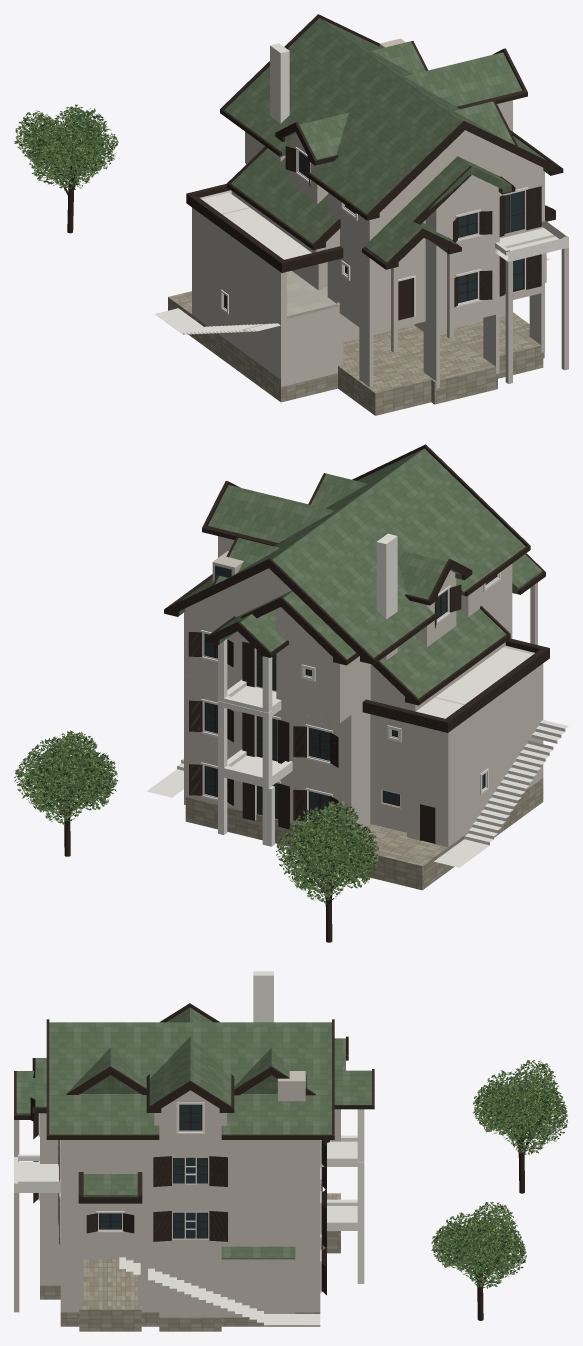
File: context-detail-b20.glb
3 renders of one model, top to bottom at view 1: azimuth 30°, elevation 25°; view 2: azimuth 150°, elevation 25°; view 3: azimuth 270°, elevation 25°, orthographic. The views are drawn at different scales.
Visible parts, largest first — view 1: B20 | ÇATII.003, B20 | KAT 1$DUVAR, B20 foundation below BK, B20 | KAT 0$DUVAR, B20 | KAT 2$DUVAR, B20 | ÇATII.002, Individual folded leaves.006, B20 | KAT 3$DUVAR, B20 | ÇATI ALIN.002, B20 | ÇATI ALIN.001, B20 | ÇATI ALIN, B20 | KAT 1$TAVAN (+11 smaller); view 2: B20 | ÇATII.003, B20 | KAT 1$DUVAR, B20 | KAT 2$DUVAR, B20 | KAT 0$DUVAR, B20 | ek dalgalar, Individual folded leaves.006, B20 | ÇATI ALIN.002, B20 foundation below BK, Individual folded leaves.005, B20 | ÇATII.002, B20 | KAT 3$DUVAR, B20 | ÇATI ALIN.001 (+14 smaller); view 3: B20 | ÇATII.003, B20 | KAT 1$DUVAR, B20 | KAT 0$DUVAR, B20 | KAT 2$DUVAR, B20 foundation below BK, Individual folded leaves.006, Individual folded leaves.005, B20 | ek dalgalar, B20 | ÇATI ALIN.002, B20 | ek dalgalar.001, B20 | ÇATI ALIN.001, B20 | PENCERE_KAPI$SHUTTER.001 (+13 smaller).
Boxes of the visible parts, x1,y1,x2,y2 form: B20 | ÇATII.003: [225, 18, 547, 220]; B20 | KAT 1$DUVAR: [192, 190, 546, 352]; B20 foundation below BK: [168, 291, 544, 415]; B20 | KAT 0$DUVAR: [192, 247, 568, 388]; B20 | KAT 2$DUVAR: [231, 128, 544, 271]; B20 | ÇATII.002: [231, 146, 549, 263]; Individual folded leaves.006: [14, 104, 118, 190]; B20 | KAT 3$DUVAR: [289, 100, 543, 209]; B20 | ÇATI ALIN.002: [220, 14, 562, 221]; B20 | ÇATI ALIN.001: [220, 109, 563, 269]; B20 | ÇATI ALIN: [186, 183, 555, 272]; B20 | KAT 1$TAVAN: [201, 192, 311, 259]; B20 | ÇATII.003: [181, 448, 525, 659]; B20 | KAT 1$DUVAR: [184, 582, 543, 791]; B20 | KAT 2$DUVAR: [184, 564, 512, 722]; B20 | KAT 0$DUVAR: [184, 725, 543, 847]; B20 | ek dalgalar: [146, 704, 568, 867]; Individual folded leaves.006: [276, 801, 379, 903]; B20 | ÇATI ALIN.002: [164, 444, 530, 664]; B20 foundation below BK: [185, 778, 543, 890]; Individual folded leaves.005: [14, 730, 118, 824]; B20 | ÇATII.002: [179, 554, 542, 698]; B20 | KAT 3$DUVAR: [185, 536, 456, 657]; B20 | ÇATI ALIN.001: [164, 545, 545, 705]; B20 | ÇATII.003: [35, 1007, 371, 1134]; B20 | KAT 1$DUVAR: [14, 1120, 320, 1259]; B20 | KAT 0$DUVAR: [14, 1193, 320, 1317]; B20 | KAT 2$DUVAR: [40, 1109, 340, 1201]; B20 foundation below BK: [40, 1193, 340, 1331]; Individual folded leaves.006: [472, 1060, 567, 1155]; Individual folded leaves.005: [431, 1202, 526, 1288]; B20 | ek dalgalar: [119, 1162, 364, 1325]; B20 | ÇATI ALIN.002: [32, 1003, 374, 1135]; B20 | ek dalgalar.001: [14, 1138, 364, 1281]; B20 | ÇATI ALIN.001: [14, 1051, 374, 1194]; B20 | PENCERE_KAPI$SHUTTER.001: [33, 1161, 326, 1244].
Bounding box in the file's own units: 18.95 × 14.71 × 26.72.
Materials: 12 (12 with a texture image).
